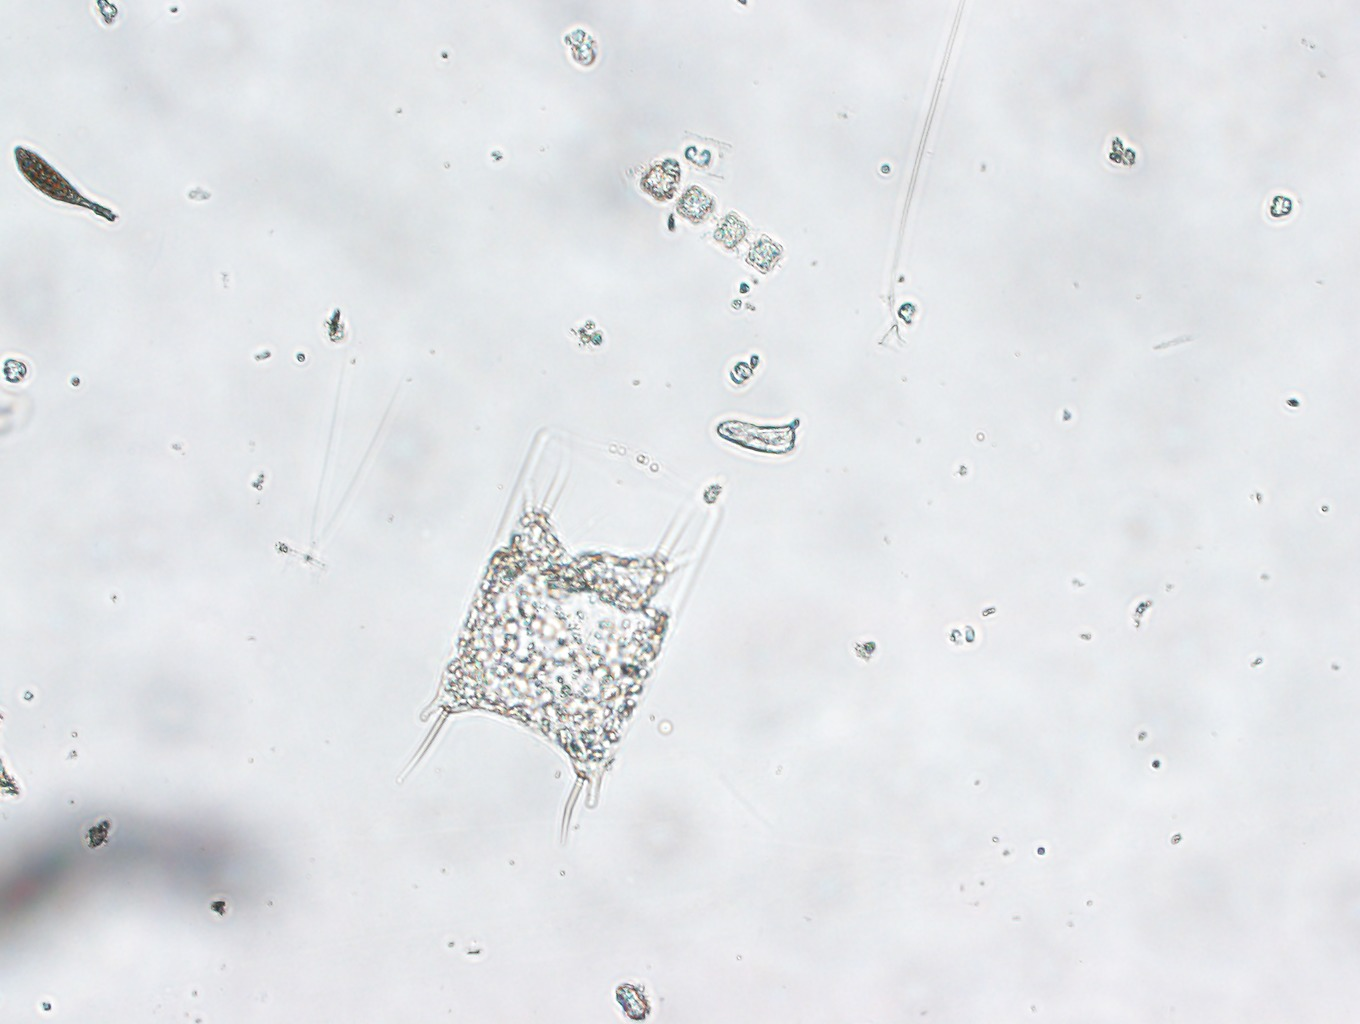biddulphia: (402, 410, 720, 839)
detonula pumila: (620, 148, 789, 286)
